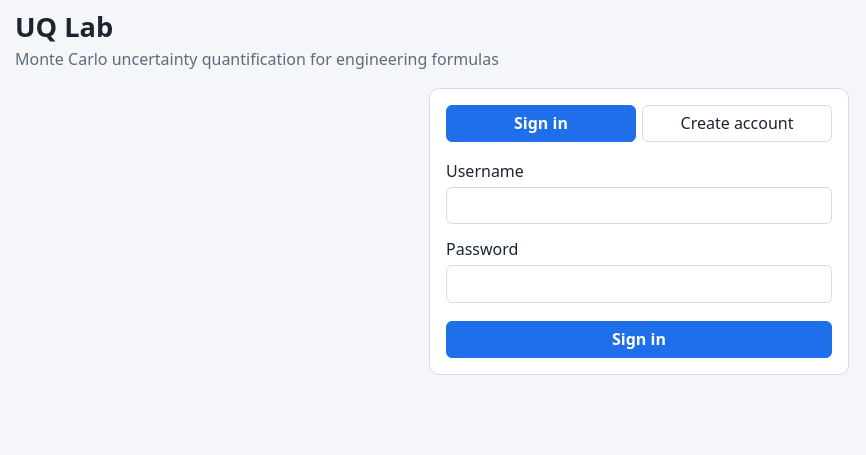
it: sign in and out › shows the server message for a wrong password and stays on the page
Type "alice" into the field labelled "Username".
click(639, 206); type("alice")  # box left=446, top=187, right=832, bottom=224
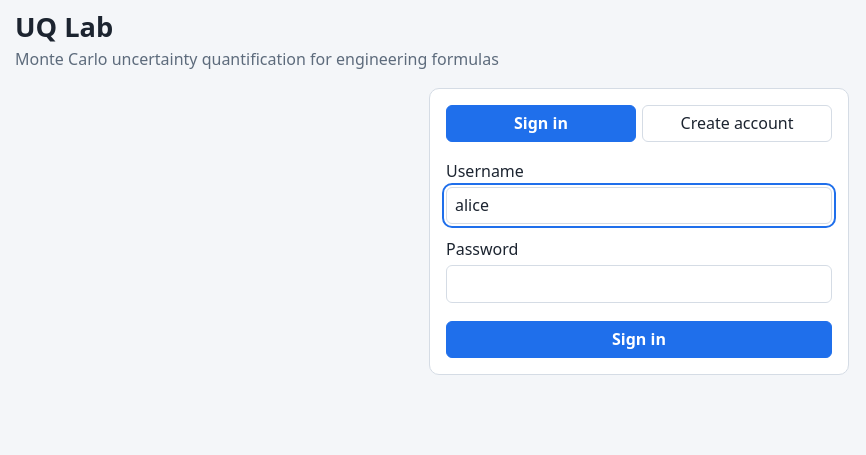
Type "wrong-password" into the password field labelled "Password".
click(639, 284); type("wrong-password")  # box left=446, top=265, right=832, bottom=303
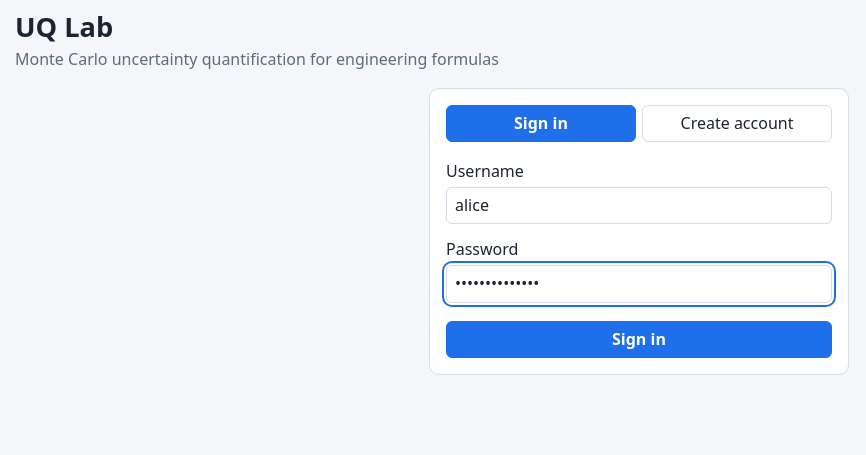
Click the submit button.
click(639, 339)  # box left=446, top=321, right=832, bottom=358
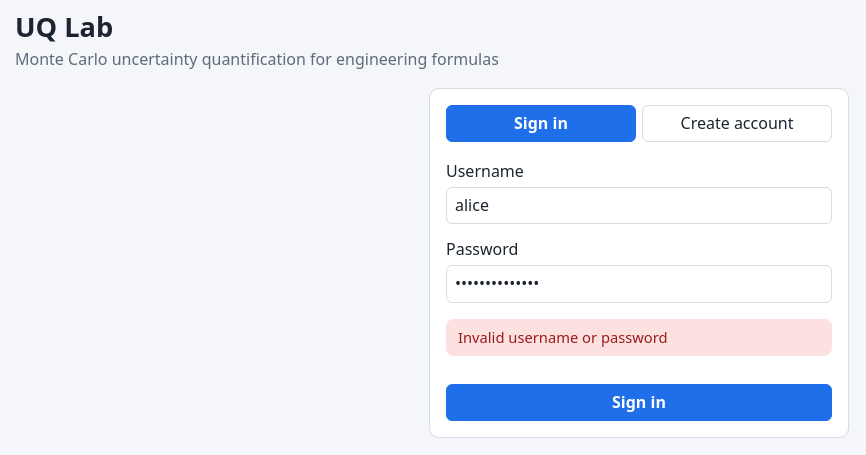
Expected: the message reads "Invalid username or password", left=458, top=327, right=668, bottom=347
